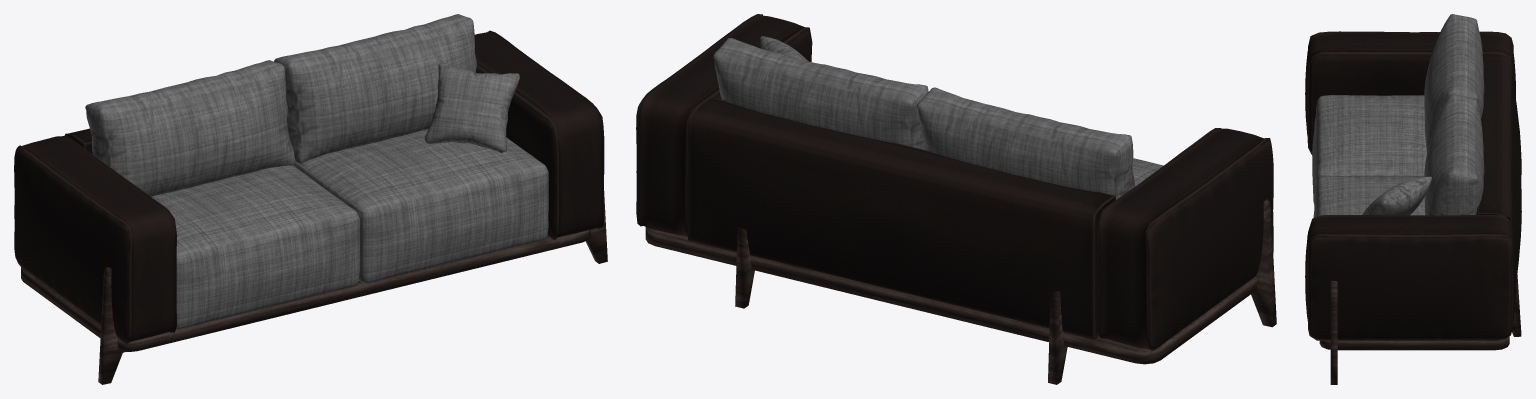
File: sofa.glb
The picture shows the model from 3 angles, left to right: view 1: azimuth 30°, elevation 25°; view 2: azimuth 150°, elevation 25°; view 3: azimuth 270°, elevation 25°; orthographic projection. The views are drawn at different scales.
Parts seen in each view (by area): view 1: Retopo_Cube.005, Retopo_Guy+-+Bell'Arte+Living.014, Retopo_Cube.006, Retopo_Cube.010, Retopo_Cube.009, Retopo_Guy+-+Bell'Arte+Living.013, Guy+-+Bell'Arte+Living.012, Retopo_Plane.002, Guy+-+Bell'Arte+Living.013; view 2: Retopo_Guy+-+Bell'Arte+Living.009, Retopo_Guy+-+Bell'Arte+Living.014, Retopo_Cube.010, Retopo_Cube.009, Retopo_Guy+-+Bell'Arte+Living.013, Guy+-+Bell'Arte+Living.012, Guy+-+Bell'Arte+Living.013; view 3: Retopo_Guy+-+Bell'Arte+Living.013, Retopo_Guy+-+Bell'Arte+Living.014, Retopo_Cube.006, Retopo_Guy+-+Bell'Arte+Living.009, Retopo_Cube.009, Retopo_Cube.010, Retopo_Cube.005, Guy+-+Bell'Arte+Living.012, Retopo_Plane.002, Guy+-+Bell'Arte+Living.013.
Part boxes in pixels (x1,y1,x2,y2): Retopo_Cube.005: (294,129,548,283); Retopo_Guy+-+Bell'Arte+Living.014: (14,135,177,344); Retopo_Cube.006: (151,165,359,329); Retopo_Cube.010: (85,60,295,196); Retopo_Cube.009: (274,14,476,163); Retopo_Guy+-+Bell'Arte+Living.013: (474,30,604,239); Guy+-+Bell'Arte+Living.012: (21,229,590,351); Retopo_Plane.002: (424,62,519,152); Guy+-+Bell'Arte+Living.013: (98,191,607,384); Retopo_Guy+-+Bell'Arte+Living.009: (688,96,1115,339); Retopo_Guy+-+Bell'Arte+Living.014: (1097,128,1273,350); Retopo_Cube.010: (917,87,1135,199); Retopo_Cube.009: (713,37,928,149); Retopo_Guy+-+Bell'Arte+Living.013: (636,14,812,236); Guy+-+Bell'Arte+Living.012: (645,227,1256,364); Guy+-+Bell'Arte+Living.013: (735,199,1276,384); Retopo_Guy+-+Bell'Arte+Living.013: (1305,215,1515,341); Retopo_Guy+-+Bell'Arte+Living.014: (1305,31,1515,155); Retopo_Cube.006: (1312,95,1426,205); Retopo_Guy+-+Bell'Arte+Living.009: (1476,52,1521,284); Retopo_Cube.009: (1424,95,1484,215); Retopo_Cube.010: (1424,14,1484,152); Retopo_Cube.005: (1313,176,1424,218); Guy+-+Bell'Arte+Living.012: (1319,336,1509,350); Retopo_Plane.002: (1362,176,1431,215); Guy+-+Bell'Arte+Living.013: (1330,274,1521,384).
Size of the model in its own units: 210 by 83.04 by 88.62.
1 material, 1 textured.
